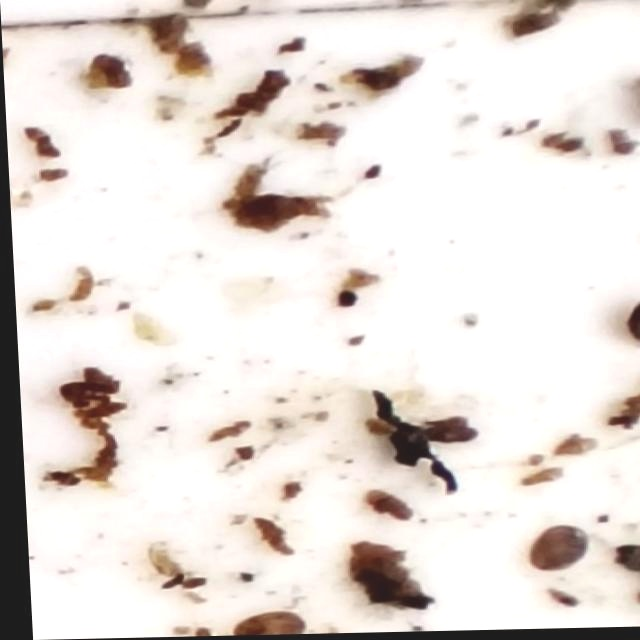varroa: (520, 525, 590, 580)
